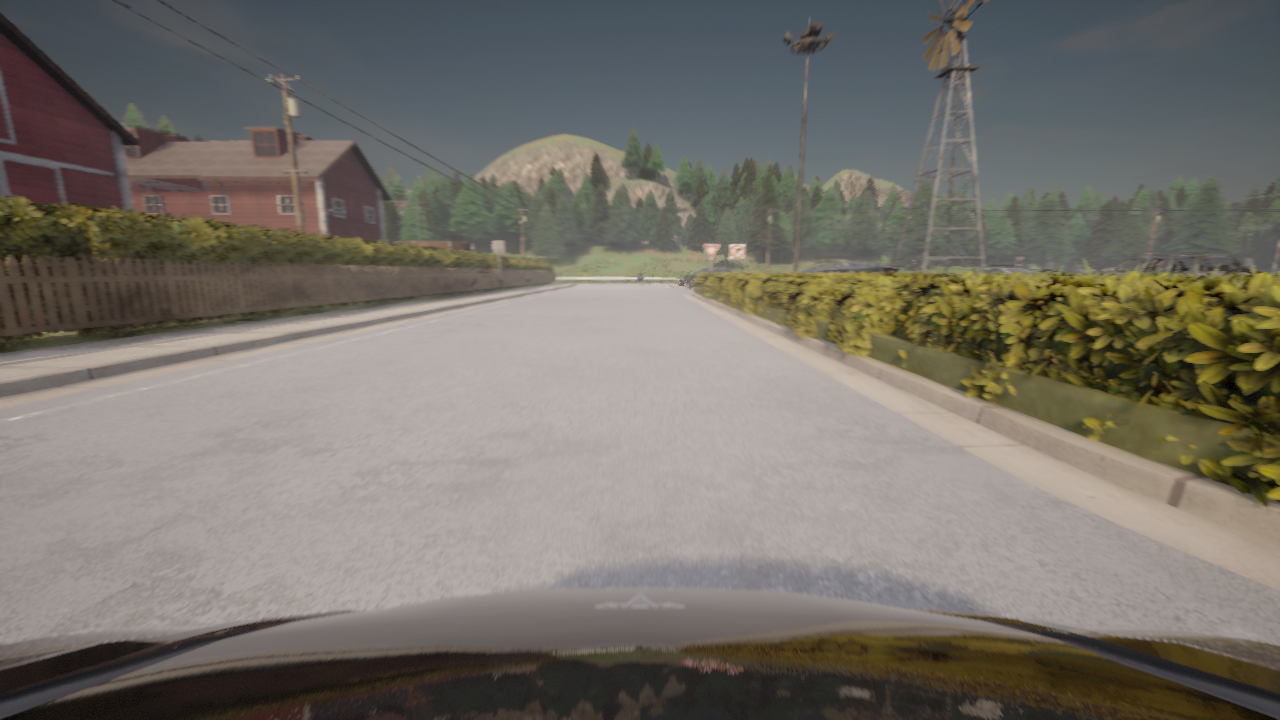cyclist: (0, 588, 1279, 719), (1082, 253, 1252, 277), (801, 260, 899, 273), (677, 267, 732, 289), (972, 264, 1042, 275), (1034, 269, 1064, 274), (637, 276, 641, 284), (1255, 270, 1260, 271)
